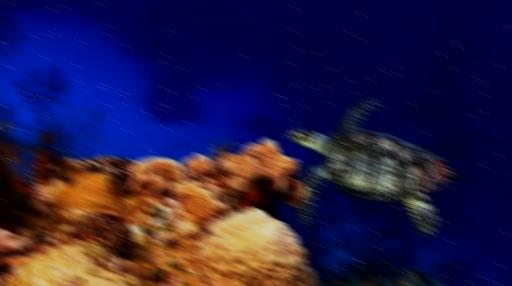Fish: (287, 98, 462, 236)
